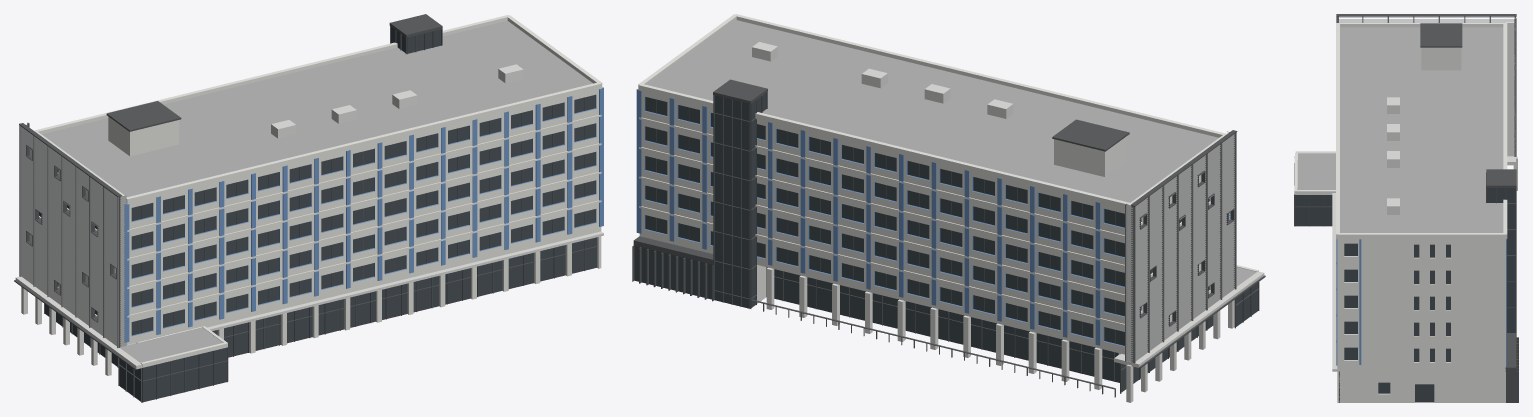
The picture shows the model from 3 angles, left to right: view 1: azimuth 30°, elevation 25°; view 2: azimuth 150°, elevation 25°; view 3: azimuth 270°, elevation 25°; orthographic projection. The views are drawn at different scales.
Visible parts, largest first — view 1: studentWelfare__render, studentWelfare__glass, studentWelfare__roof, studentWelfare__blue, studentWelfare__louvre, studentWelfare__frame, studentWelfare__canopy; view 2: studentWelfare__render, studentWelfare__glass, studentWelfare__roof, studentWelfare__louvre, studentWelfare__blue, studentWelfare__frame, studentWelfare__canopy; view 3: studentWelfare__roof, studentWelfare__render, studentWelfare__glass, studentWelfare__frame, studentWelfare__canopy, studentWelfare__louvre, studentWelfare__blue.
Part boxes in pixels (x1=…): studentWelfare__render: x1=29, y1=15, x2=602, y2=367; studentWelfare__glass: x1=39, y1=27, x2=596, y2=402; studentWelfare__roof: x1=42, y1=21, x2=592, y2=362; studentWelfare__blue: x1=124, y1=87, x2=603, y2=342; studentWelfare__louvre: x1=19, y1=122, x2=126, y2=347; studentWelfare__frame: x1=14, y1=14, x2=597, y2=402; studentWelfare__canopy: x1=15, y1=64, x2=603, y2=375; studentWelfare__render: x1=638, y1=14, x2=1258, y2=389; studentWelfare__glass: x1=635, y1=93, x2=1258, y2=392; studentWelfare__roof: x1=648, y1=20, x2=1256, y2=286; studentWelfare__louvre: x1=1125, y1=131, x2=1236, y2=363; studentWelfare__blue: x1=636, y1=89, x2=1229, y2=346; studentWelfare__frame: x1=632, y1=79, x2=1265, y2=397; studentWelfare__canopy: x1=752, y1=42, x2=1264, y2=402; studentWelfare__roof: x1=1297, y1=27, x2=1503, y2=232; studentWelfare__render: x1=1294, y1=22, x2=1515, y2=402; studentWelfare__glass: x1=1295, y1=188, x2=1515, y2=402; studentWelfare__frame: x1=1294, y1=14, x2=1518, y2=402; studentWelfare__canopy: x1=1295, y1=97, x2=1517, y2=371; studentWelfare__louvre: x1=1336, y1=16, x2=1516, y2=156; studentWelfare__blue: x1=1336, y1=238, x2=1506, y2=365.
Bounding box in the file's own units: 64.85 × 26.3 × 28.18.
